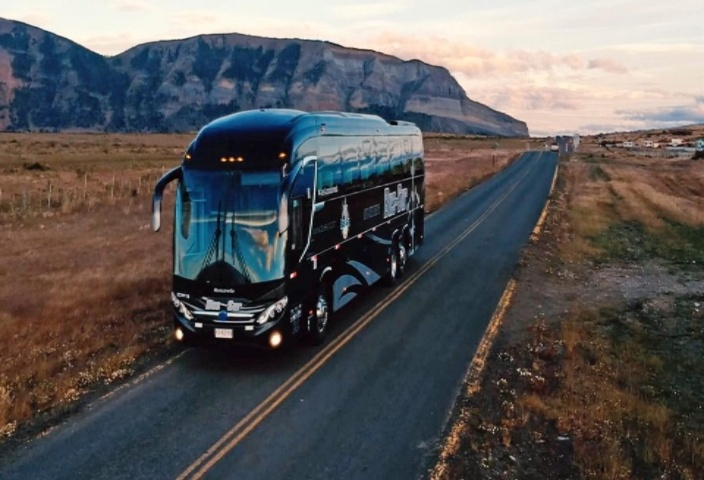bus: (150, 93, 440, 360)
